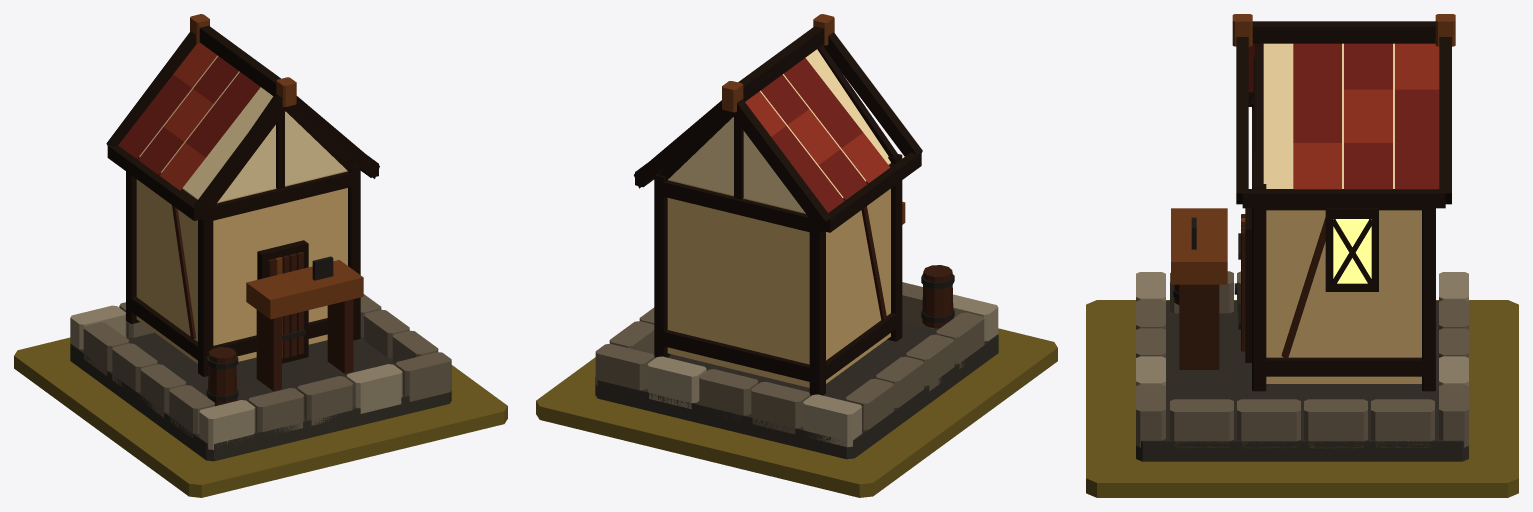
The model's file is butchery_t1.glb.
3 views of the same model, side by side, from view 1: azimuth 30°, elevation 25°; view 2: azimuth 150°, elevation 25°; view 3: azimuth 270°, elevation 25° (orthographic). The views are drawn at different scales.
Visible parts, largest first — view 1: MMR | butchery | T01 Architecture.001, MMR | butchery | Tier 01 Ground.001; view 2: MMR | butchery | T01 Architecture.001, MMR | butchery | Tier 01 Ground.001; view 3: MMR | butchery | T01 Architecture.001, MMR | butchery | Tier 01 Ground.001.
Boxes of the visible parts, bbox=[...] form: MMR | butchery | T01 Architecture.001: bbox=[70, 14, 451, 461]; MMR | butchery | Tier 01 Ground.001: bbox=[14, 337, 507, 497]; MMR | butchery | T01 Architecture.001: bbox=[595, 14, 998, 459]; MMR | butchery | Tier 01 Ground.001: bbox=[536, 328, 1057, 497]; MMR | butchery | T01 Architecture.001: bbox=[1136, 14, 1468, 461]; MMR | butchery | Tier 01 Ground.001: bbox=[1086, 300, 1518, 497].
Bounding box in the file's own units: 1.3 × 1.29 × 1.3.
Materials: 2 (1 with a texture image).
